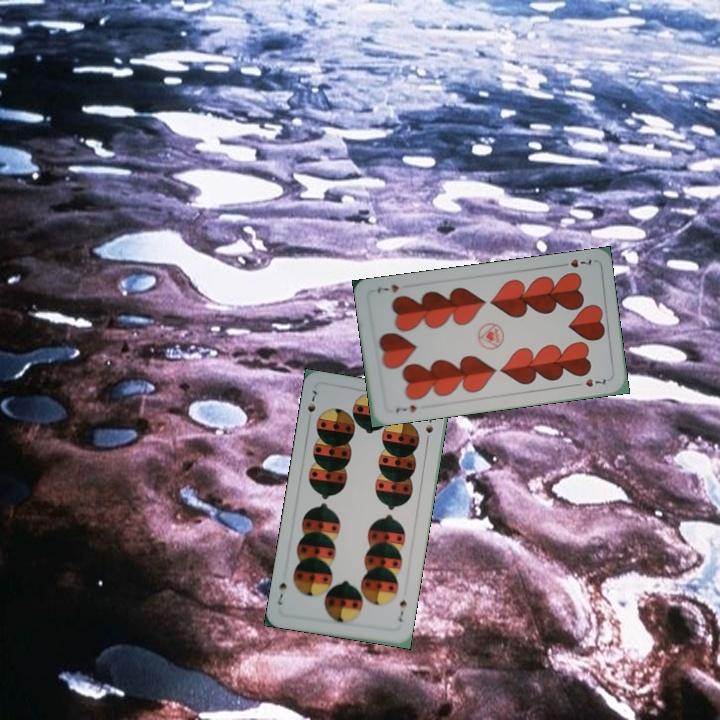H7: (555, 255, 594, 270), (392, 401, 419, 415)
S7: (303, 386, 320, 425), (394, 596, 409, 625)
